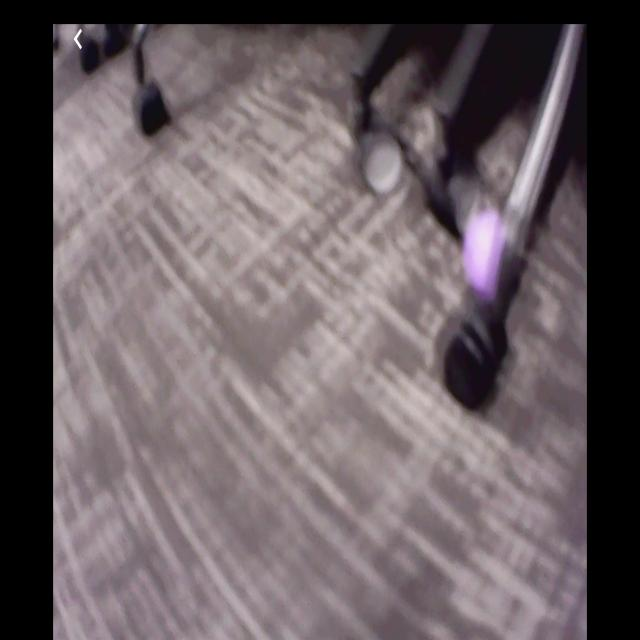ball: (464, 210, 507, 289)
